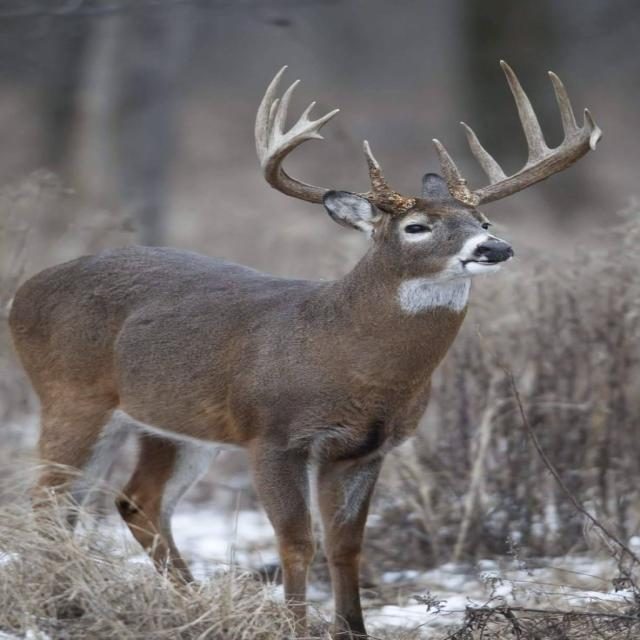E1: (582, 108, 596, 131)
L-F: (457, 130, 603, 208)
L-G1: (430, 138, 472, 198)
L-G2: (459, 121, 508, 184)
L-G3: (499, 60, 553, 162)
L-G4: (548, 70, 580, 138)
R-G1: (362, 140, 394, 194)
